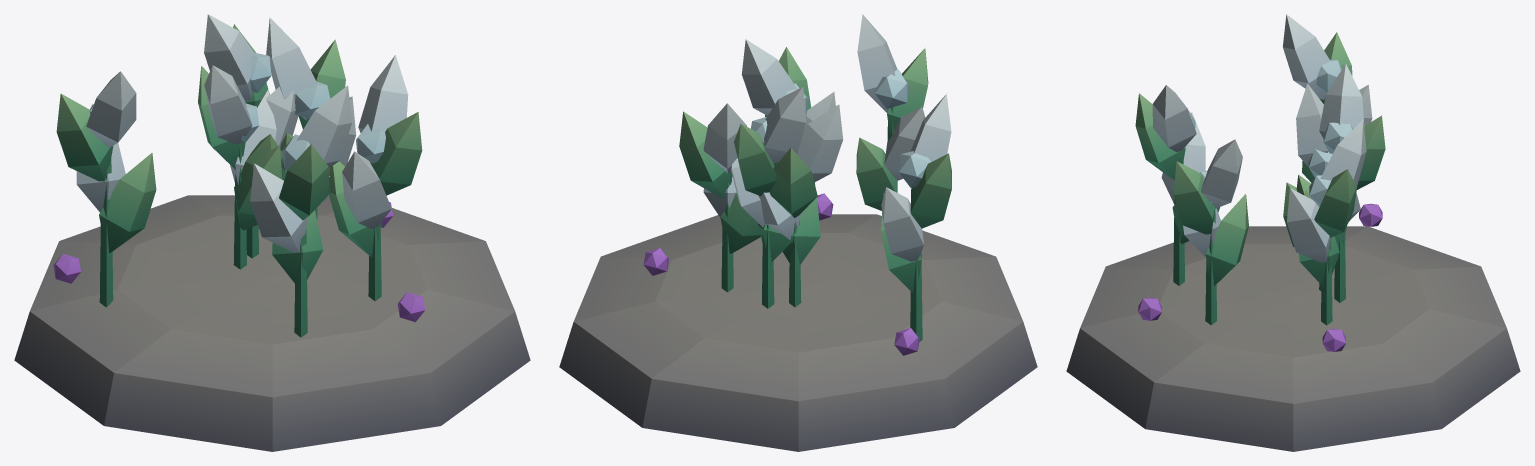
Rendered from res_herb_moonleaf.glb.
The picture shows the model from 3 angles, left to right: view 1: azimuth 30°, elevation 25°; view 2: azimuth 150°, elevation 25°; view 3: azimuth 270°, elevation 25°; orthographic projection. The views are drawn at different scales.
Parts seen in each view (by area): view 1: res_herb_moonleaf; view 2: res_herb_moonleaf; view 3: res_herb_moonleaf.
Part boxes in pixels (x1=…): res_herb_moonleaf: x1=14, y1=14, x2=530, y2=451; res_herb_moonleaf: x1=559, y1=14, x2=1037, y2=451; res_herb_moonleaf: x1=1066, y1=14, x2=1520, y2=451.
Size of the model in its own units: 3.88 by 2.64 by 3.94.
Materials: 1 (1 with a texture image).
